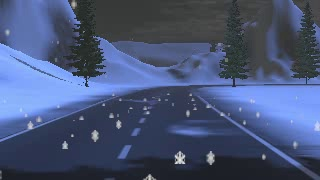Lane: (0, 83, 315, 179)
